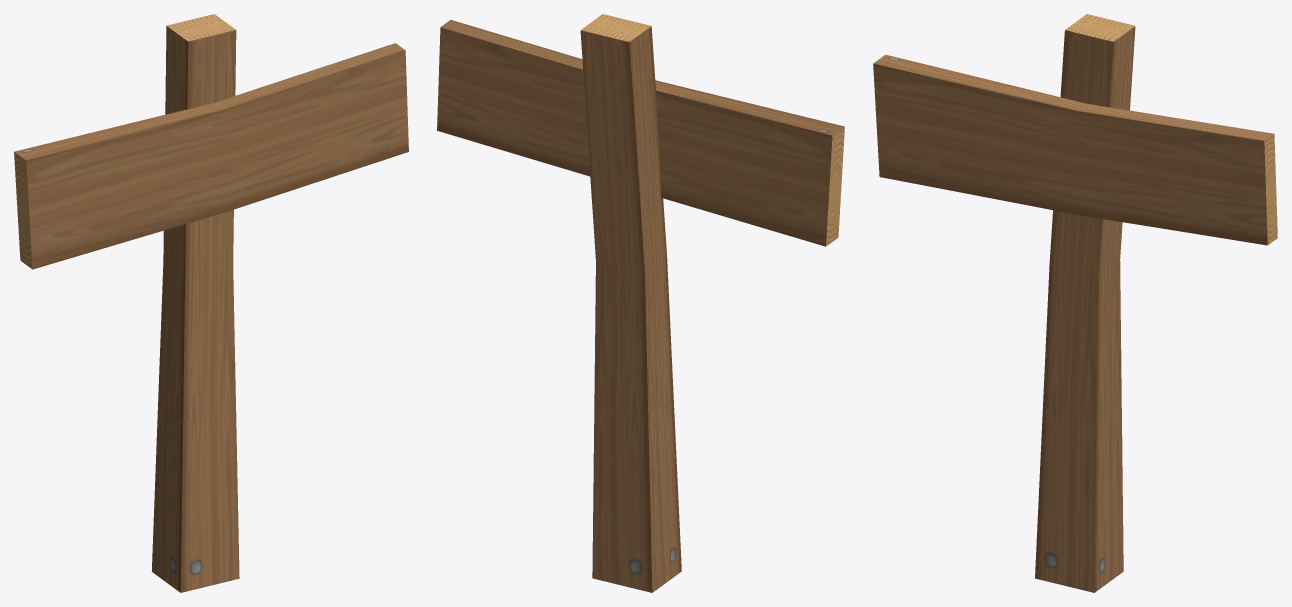
File: Tomb_Stone_03.FBX
3 renders of one model, left to right at view 1: azimuth 30°, elevation 25°; view 2: azimuth 150°, elevation 25°; view 3: azimuth 330°, elevation 25°, orthographic.
Parts seen in each view (by area): view 1: Tomb_Stone_03; view 2: Tomb_Stone_03; view 3: Tomb_Stone_03.
Part boxes in pixels (left/top/right/bottom): Tomb_Stone_03: left=14, top=14, right=408, bottom=592; Tomb_Stone_03: left=437, top=14, right=844, bottom=592; Tomb_Stone_03: left=873, top=14, right=1277, bottom=592.
Size of the model in its own units: 1.38 by 1.84 by 0.2203.
